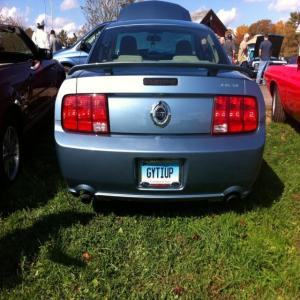Plate: (140, 160, 181, 187)
